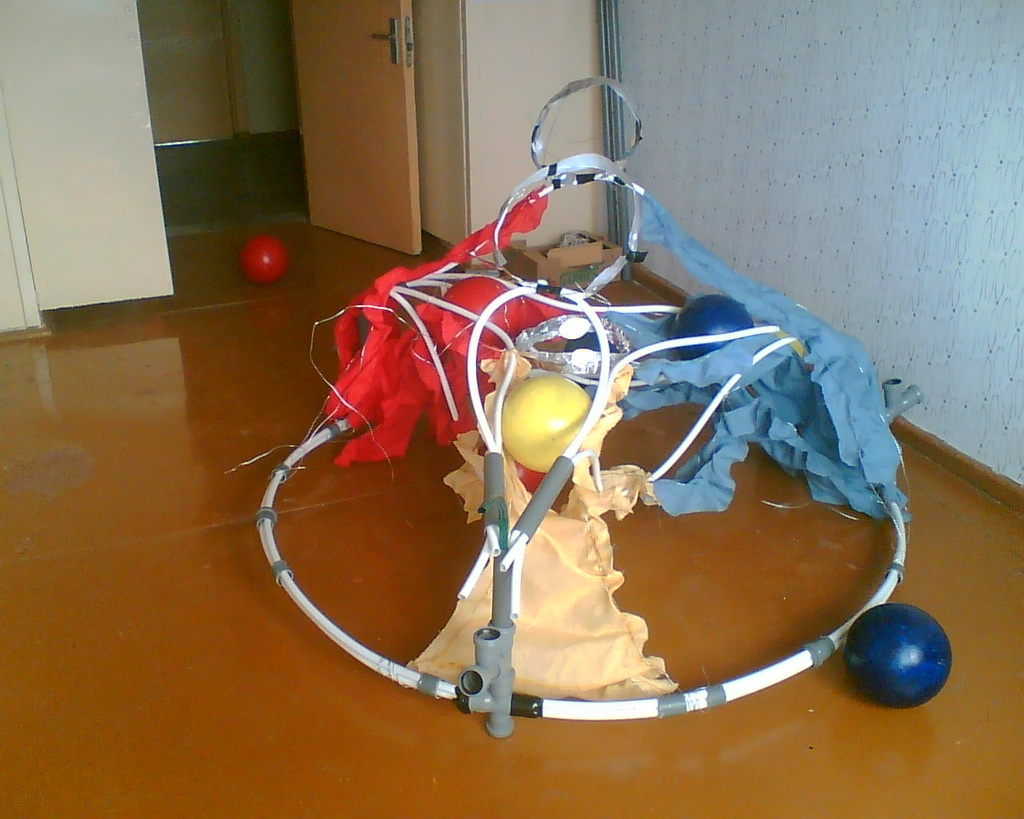Ball: (844, 604, 954, 709), (503, 371, 590, 477), (672, 294, 749, 362), (442, 278, 519, 340), (238, 237, 292, 287)
